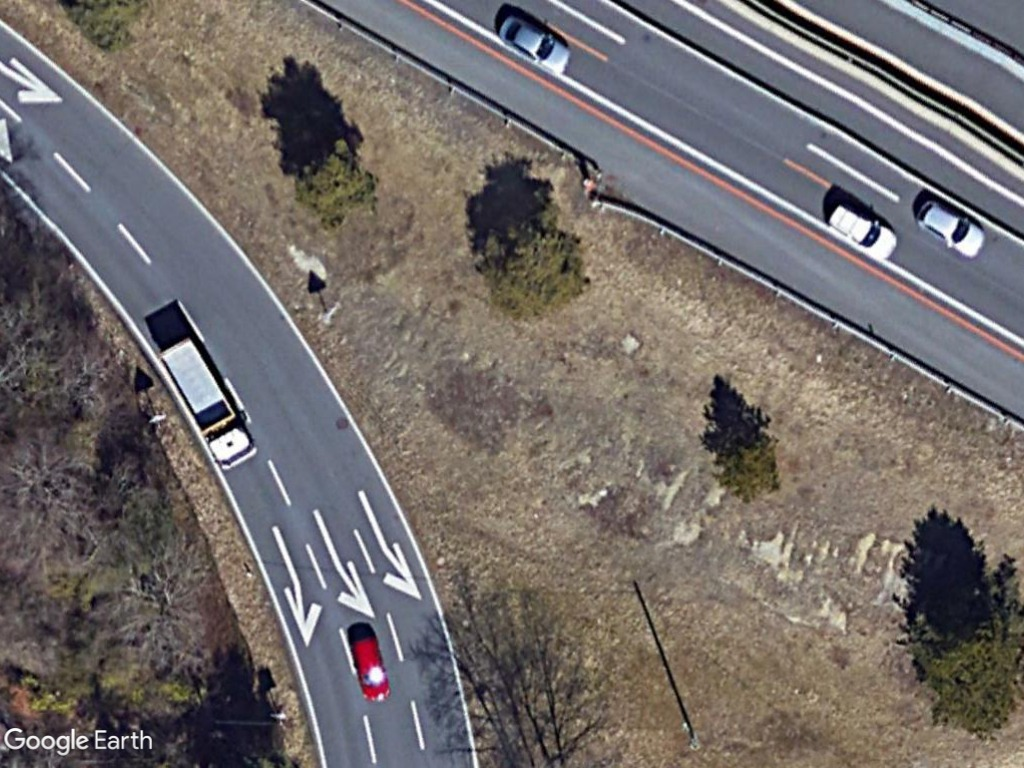car: (495, 10, 574, 77), (915, 196, 988, 259), (348, 634, 394, 704)
truck: (158, 342, 257, 469)
van: (825, 200, 902, 261)
